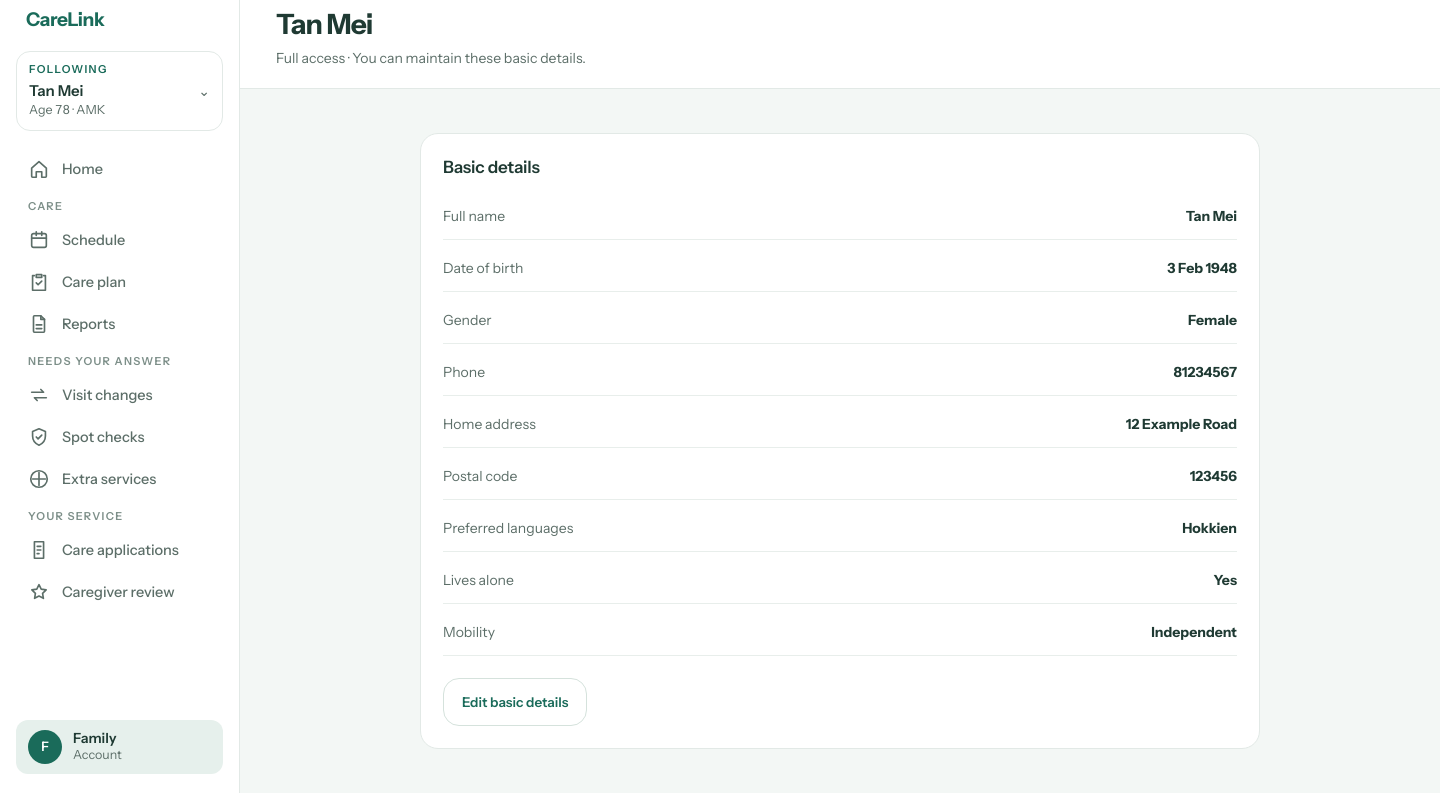
it: My elders and basic details › saves the phone as +65 and eight digits, and languages from the list
(page scrolled)
Click the button "Edit basic details" at (515, 702), box top-left (443, 678), bottom-right (587, 726)
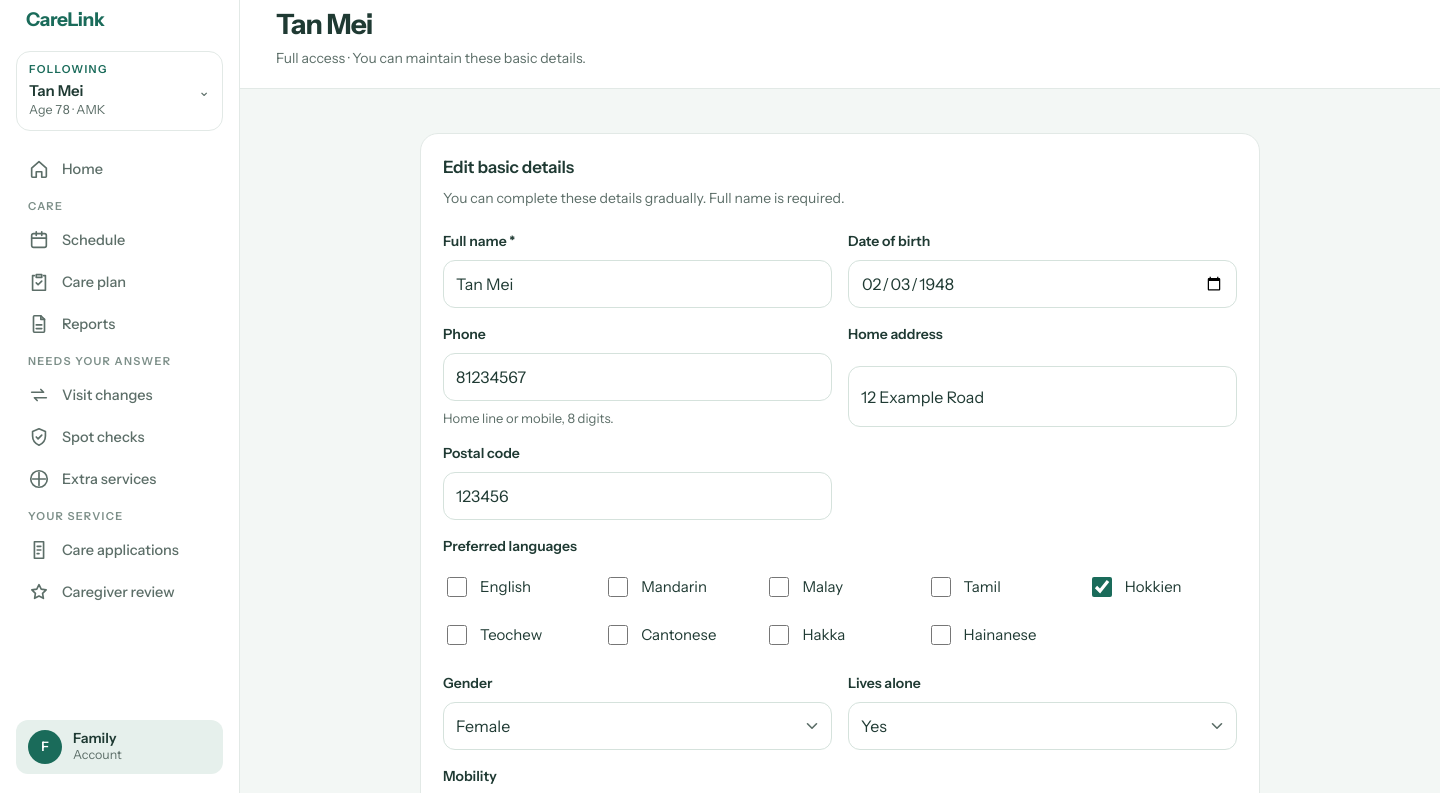
Replace the text in the field labelled "Phone" with "6123-4567" at (638, 377), box top-left (443, 353), bottom-right (832, 401)
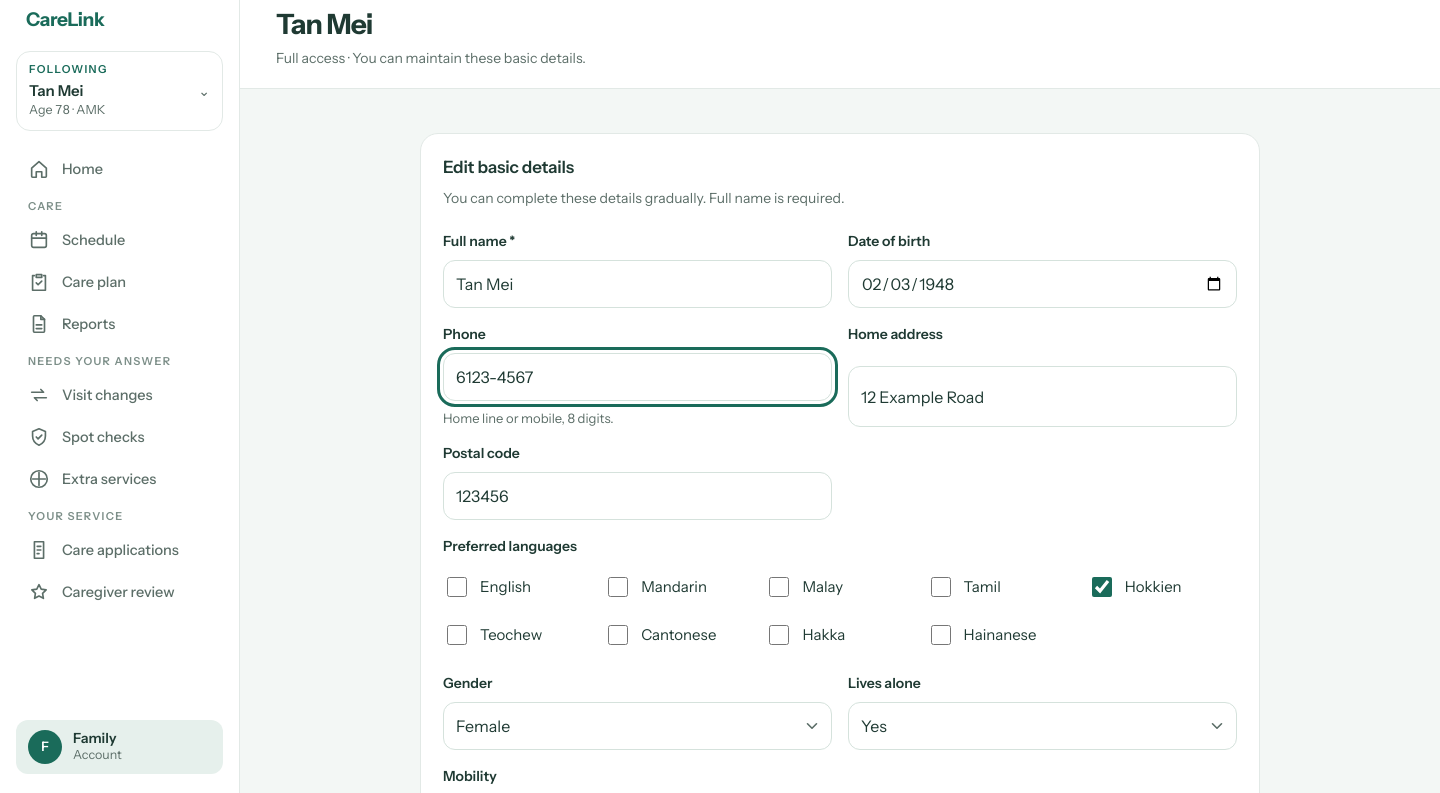
Expected: the checkbox labelled "Hokkien" is checked, top-left (1092, 577), bottom-right (1112, 597)
Click the checkbox labelled "Mandarin" at (618, 587), box top-left (608, 577), bottom-right (628, 597)
(page scrolled)
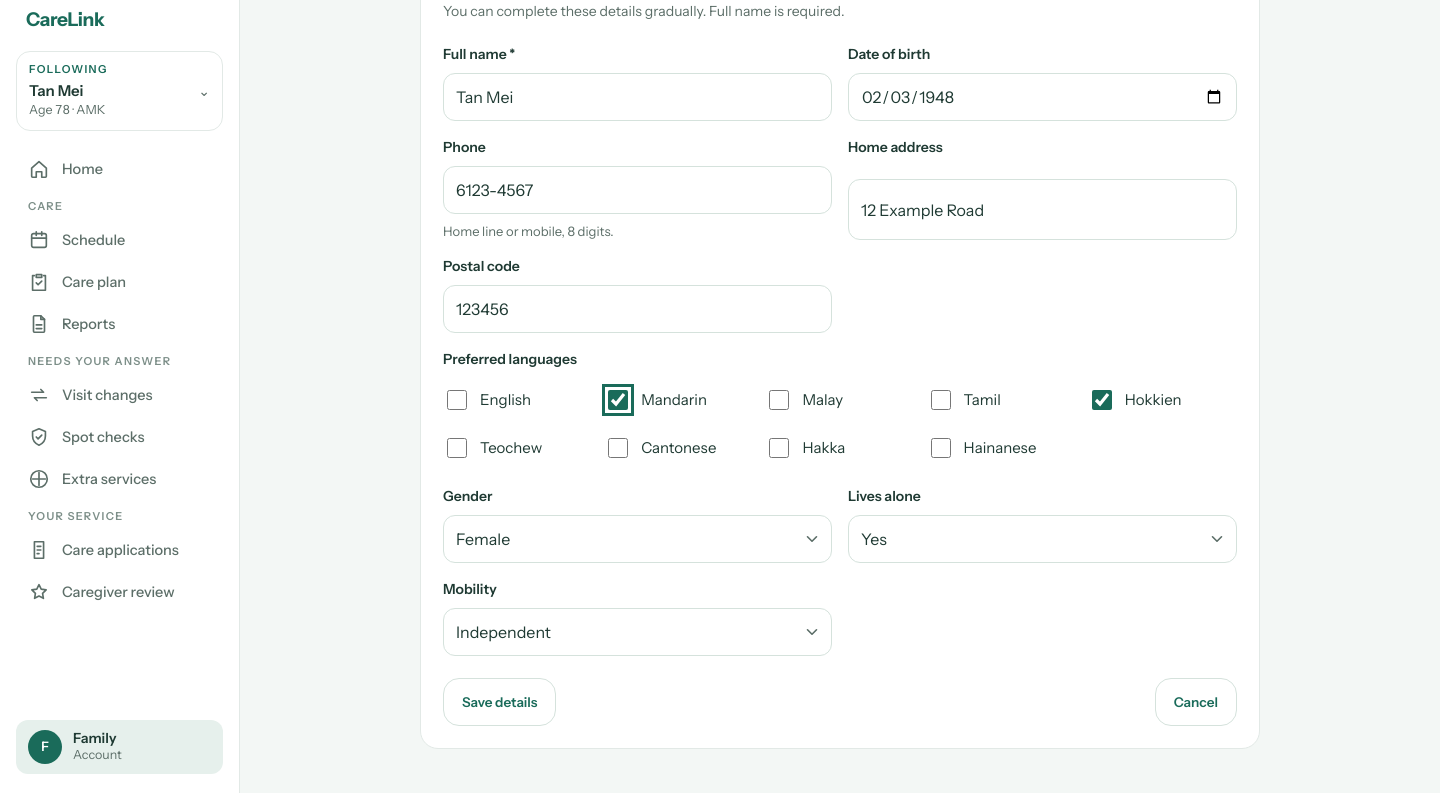
Click the button "Save details" at (500, 702), box top-left (443, 678), bottom-right (556, 726)
(page scrolled)
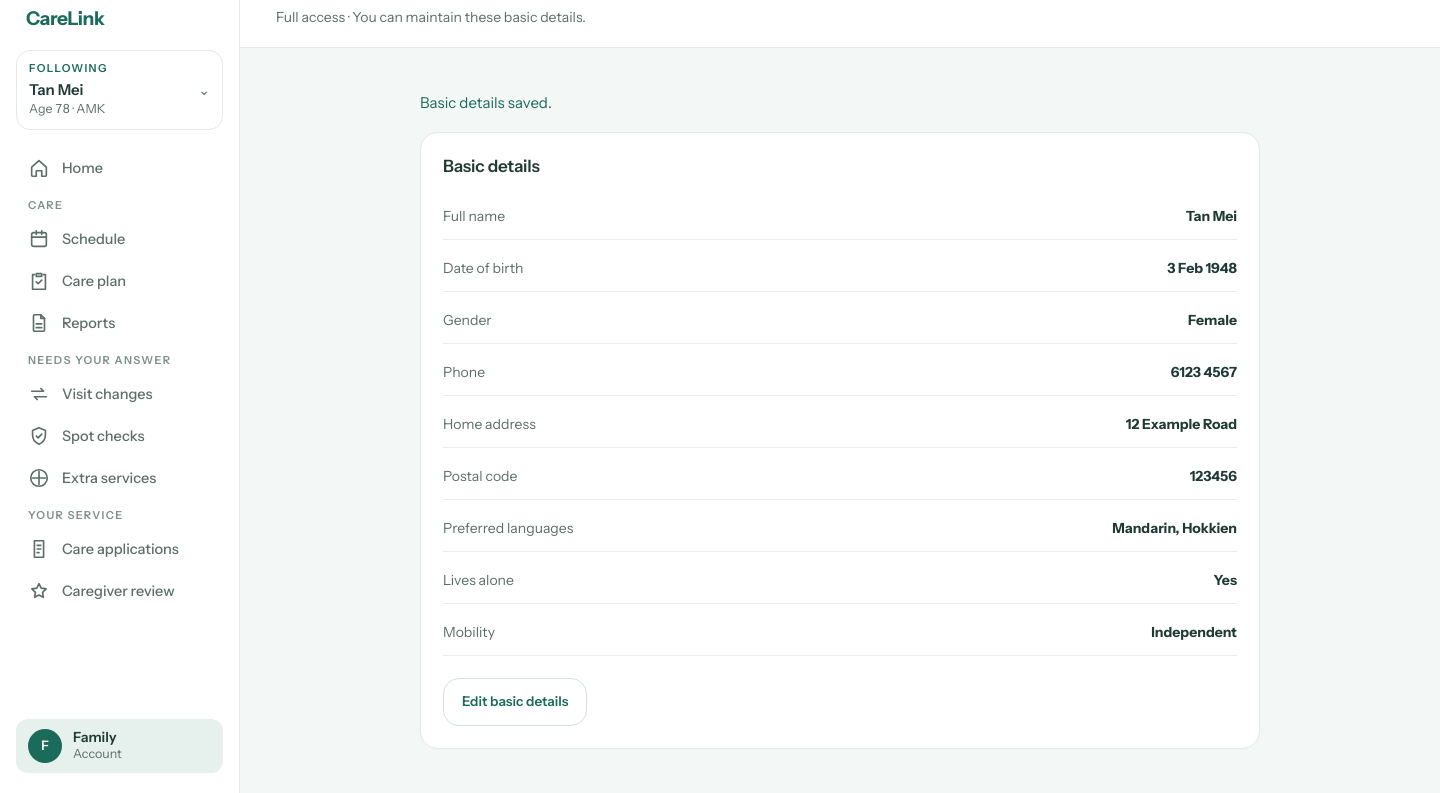
Expected: the message reads "Basic details saved.", top-left (420, 93), bottom-right (552, 112)
